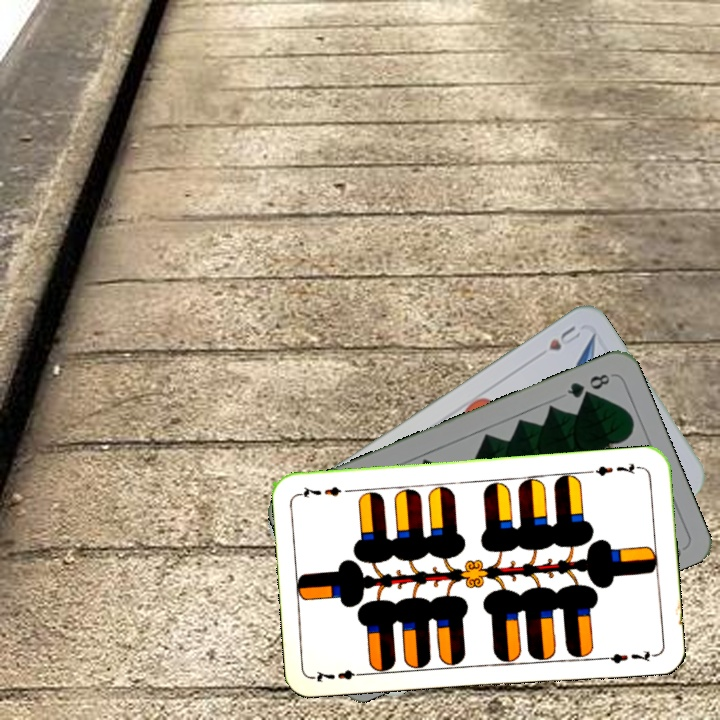E7: (586, 458, 645, 479), (310, 665, 369, 685)
G8: (563, 369, 613, 401)
HU: (544, 321, 584, 354)
